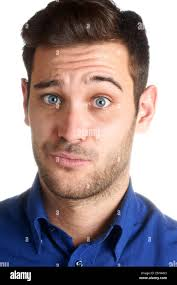s.white: (80, 112, 126, 168)
